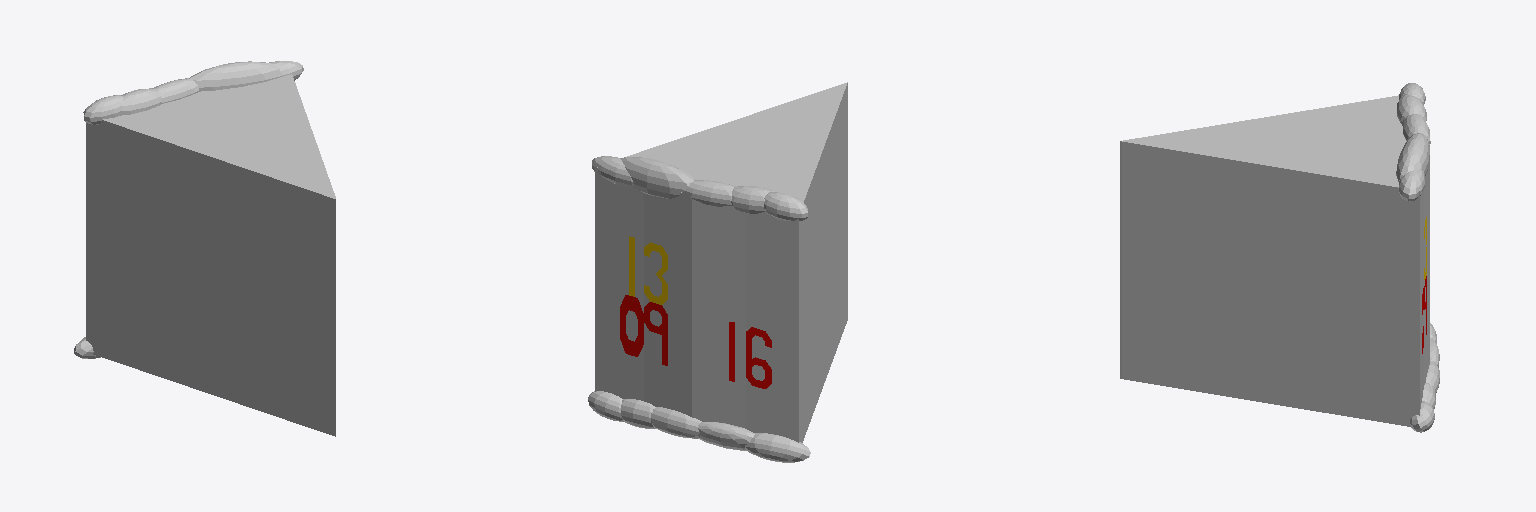
The picture shows the model from 3 angles: view 1: azimuth 30°, elevation 25°; view 2: azimuth 150°, elevation 25°; view 3: azimuth 270°, elevation 25°; orthographic projection.
Visible parts, largest first — view 1: group[number redacted], group[number redacted], group[number redacted], group[number redacted], group[number redacted]; view 2: group[number redacted], group[number redacted], group[number redacted], group[number redacted], group[number redacted], group[number redacted], group[number redacted], group[number redacted], group[number redacted], group[number redacted], group[number redacted]; view 3: group[number redacted], group[number redacted], group[number redacted], group[number redacted].
Boxes of the visible parts, box(x1,y1,x2,y2) form: group[number redacted]: box(86, 74, 335, 436); group[number redacted]: box(189, 61, 283, 91); group[number redacted]: box(83, 95, 123, 124); group[number redacted]: box(121, 88, 161, 115); group[number redacted]: box(152, 78, 198, 103); group[number redacted]: box(595, 82, 847, 442); group[number redacted]: box(620, 157, 694, 198); group[number redacted]: box(745, 433, 810, 462); group[number redacted]: box(698, 422, 754, 450); group[number redacted]: box(651, 407, 701, 438); group[number redacted]: box(683, 180, 735, 206); group[number redacted]: box(764, 192, 807, 220); group[number redacted]: box(731, 186, 773, 213); group[number redacted]: box(592, 156, 633, 186); group[number redacted]: box(621, 399, 655, 428); group[number redacted]: box(588, 391, 623, 421); group[number redacted]: box(1120, 95, 1429, 426); group[number redacted]: box(1396, 133, 1429, 181); group[number redacted]: box(1399, 170, 1424, 201); group[number redacted]: box(1397, 95, 1426, 123).
Bounding box in the file's own units: 1.22 × 1.38 × 1.52.